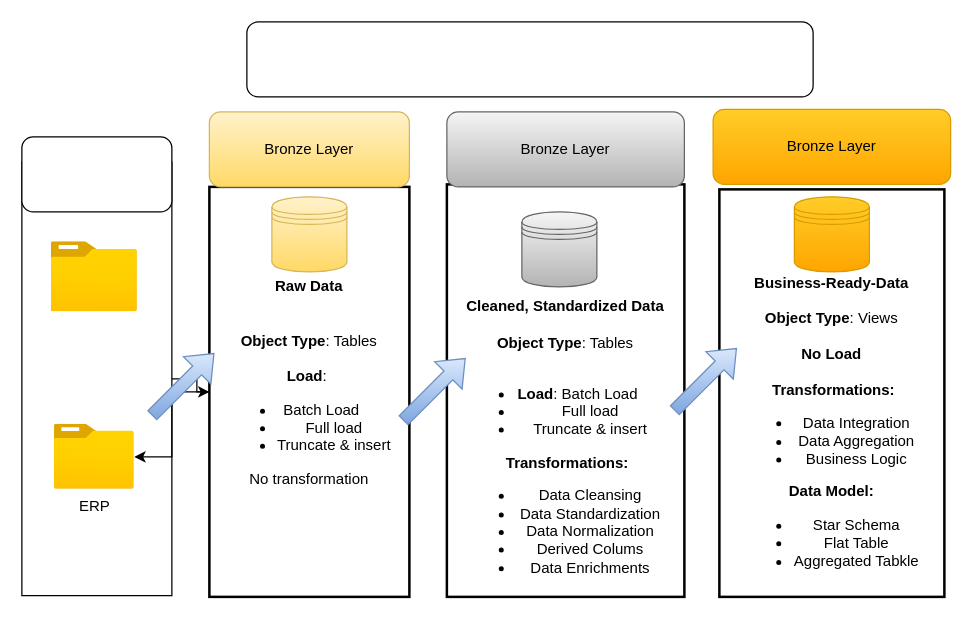
Some shapes in this 973 by 620 pixel diagram are drawn without their labels. The shapes that lost their labels are listed below. From the top down, each one's box as (x1, y1, x2, y2) in pixels, then its label:
(246, 21, 813, 97): Data Warehouse Architecture
(21, 136, 172, 212): Sources
(51, 241, 137, 311): CRM
